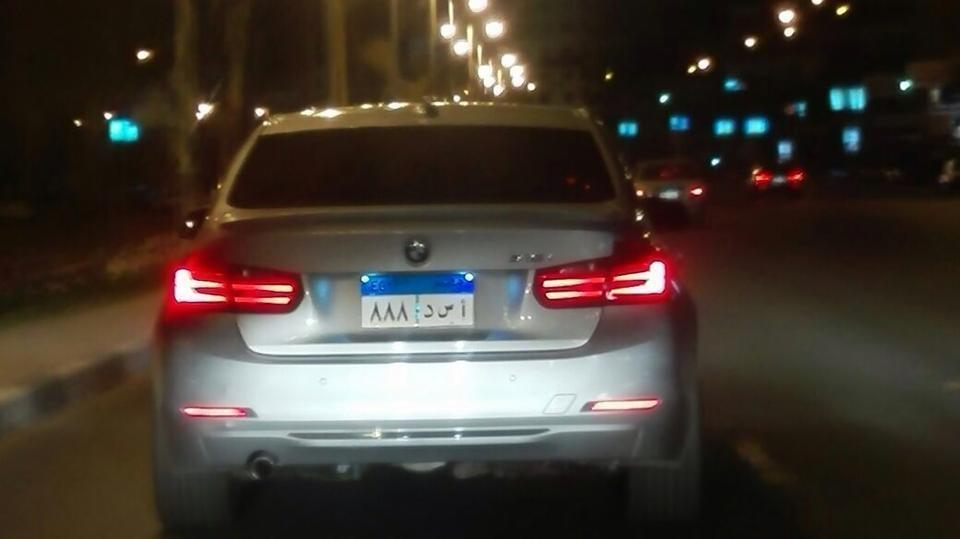8: (395, 298, 409, 323), (370, 299, 382, 322), (383, 301, 396, 322)
License Plate: (358, 271, 476, 330), (661, 187, 679, 199), (774, 176, 783, 182)
Seen: (437, 302, 454, 320)
alef: (460, 296, 466, 319)
car: (143, 104, 704, 500), (632, 159, 701, 209), (751, 158, 800, 193)
daal: (424, 302, 435, 319)
